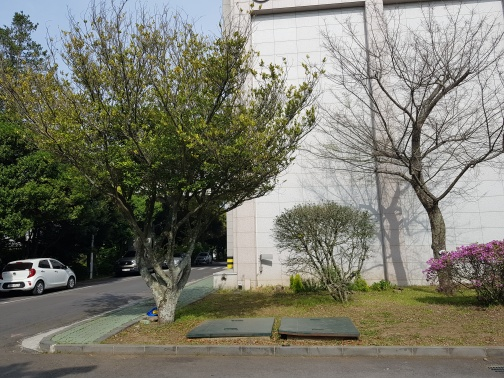College of Nursing: (207, 10, 494, 276)
